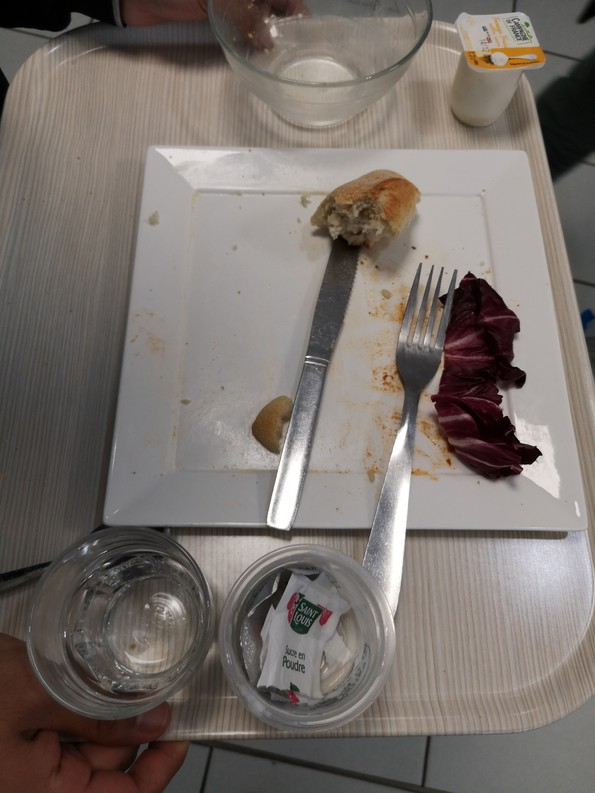cup: (8, 536, 196, 723)
cutlery: (358, 252, 460, 627), (273, 219, 371, 535)
orga: (438, 267, 540, 487), (314, 163, 428, 261)
trash: (228, 556, 390, 728), (449, 5, 537, 123)
